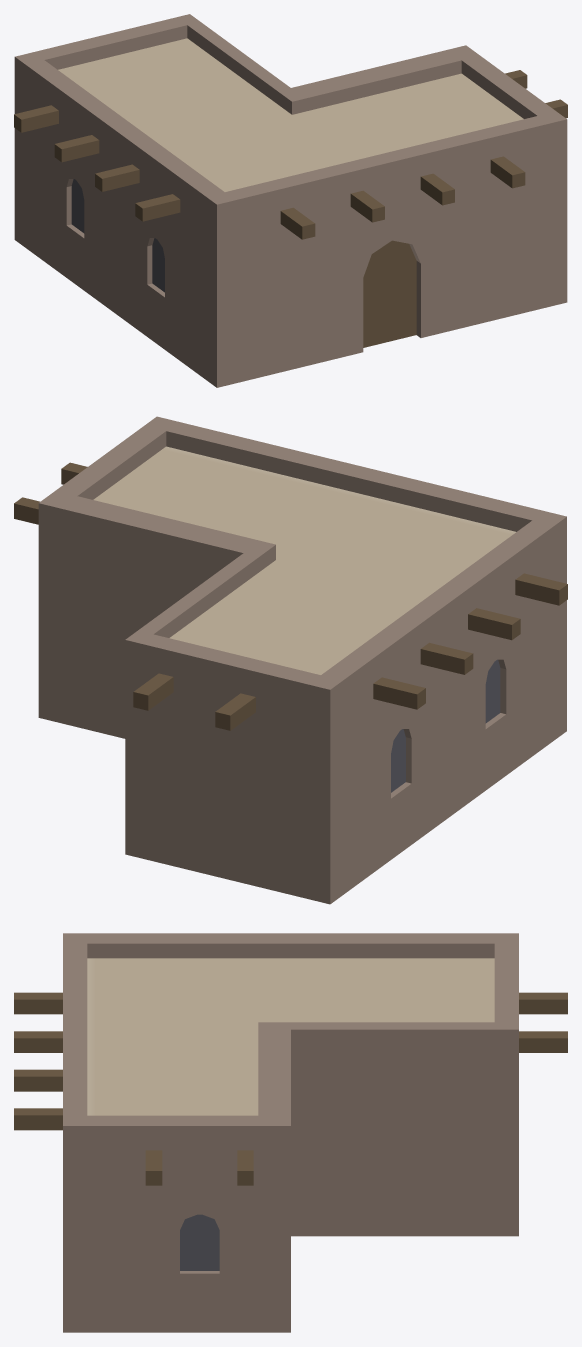
Rendered from Corner_House.fbx.
3 views of the same model, one above another, from view 1: azimuth 30°, elevation 25°; view 2: azimuth 150°, elevation 25°; view 3: azimuth 270°, elevation 25° (orthographic). The views are drawn at different scales.
Parts seen in each view (by area): view 1: Corner_House; view 2: Corner_House; view 3: Corner_House.
Part boxes in pixels (x1,y1,x2,y2): Corner_House: (14, 14, 567, 387); Corner_House: (14, 416, 567, 904); Corner_House: (14, 933, 567, 1332).
Size of the model in its own units: 1700 by 700 by 1700.
1 material, 1 textured.
